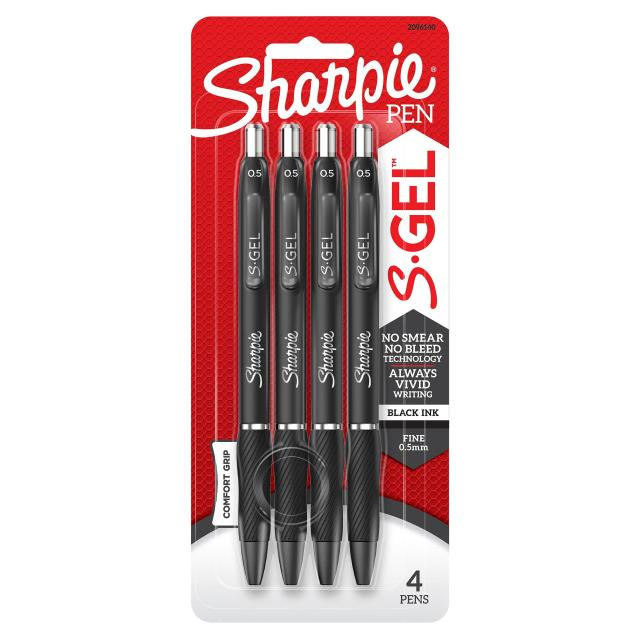pen: (224, 120, 385, 590)
